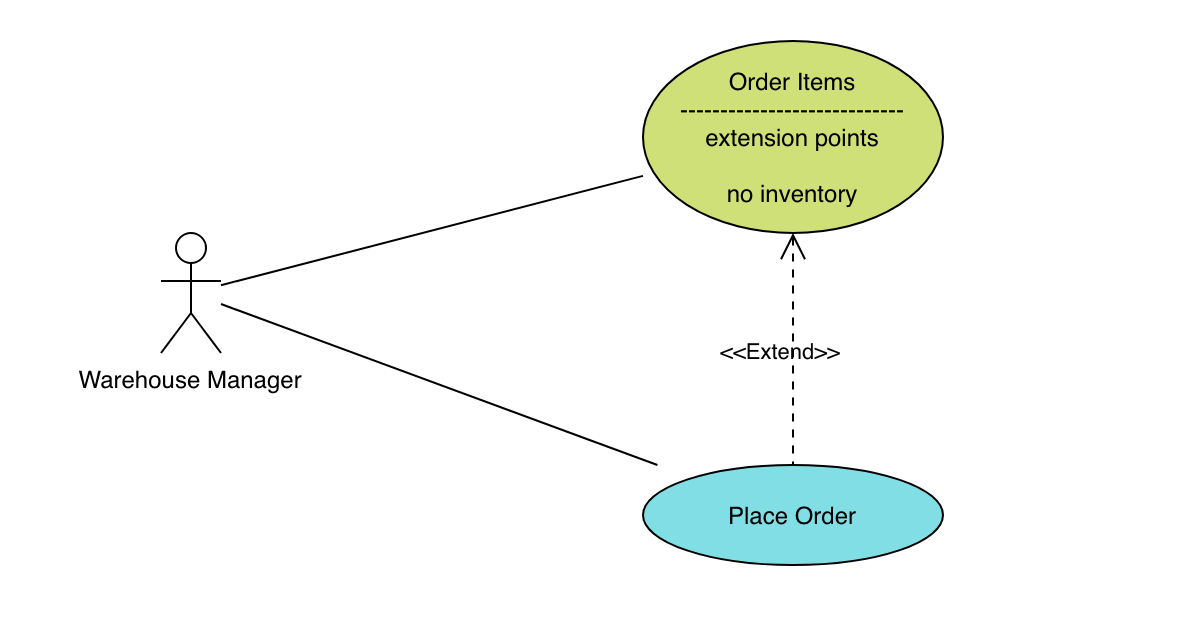actor: (158, 227, 225, 359)
association: (221, 300, 660, 467), (223, 173, 643, 289), (778, 233, 809, 462)
text: (696, 124, 875, 211), (73, 364, 311, 398), (724, 497, 862, 535), (726, 66, 864, 97), (713, 336, 848, 364)
use_case: (640, 38, 946, 236), (640, 463, 943, 570)
